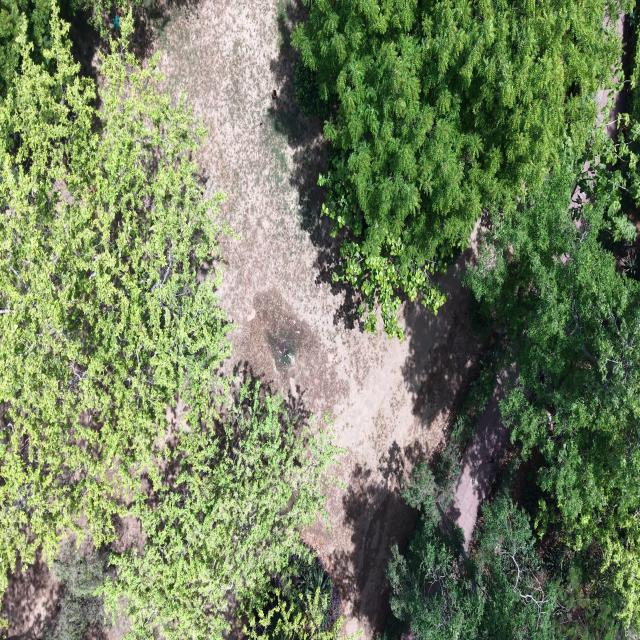DRY_AREA: (153, 0, 481, 639), (449, 372, 515, 549), (449, 372, 515, 546), (3, 556, 60, 639)
VEGETATION_TREE: (293, 0, 639, 639), (294, 0, 639, 637), (0, 4, 338, 638), (0, 11, 230, 580), (390, 115, 639, 637), (293, 0, 620, 337), (467, 57, 639, 636), (468, 164, 639, 624), (104, 386, 337, 639), (386, 353, 559, 639), (385, 456, 636, 639), (387, 496, 556, 639), (402, 349, 501, 521), (579, 11, 639, 279), (538, 530, 636, 639), (244, 557, 342, 639), (42, 541, 110, 639), (0, 0, 53, 99), (0, 0, 52, 99), (0, 0, 51, 98), (244, 591, 341, 639), (292, 559, 339, 629), (295, 61, 327, 117)
